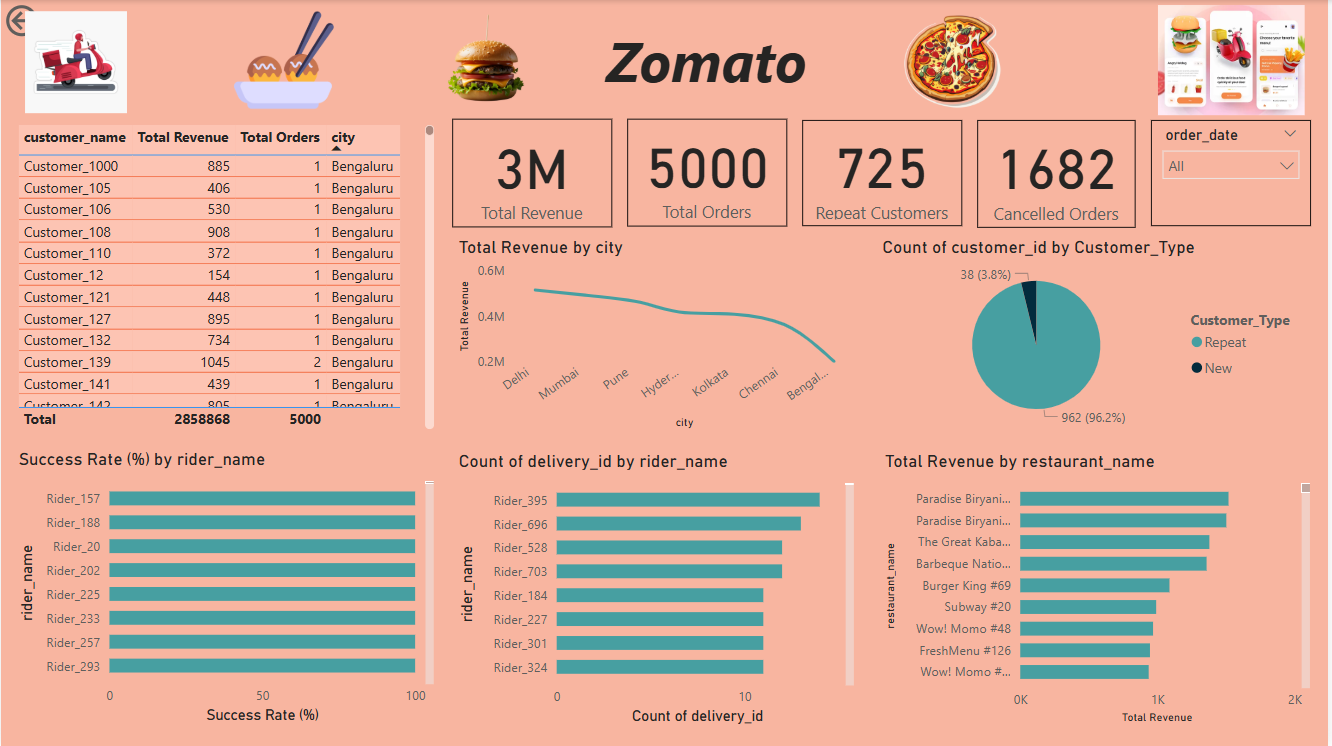

The page's visual inventory and layout, read from the dashboard file:
{"tool":"powerbi","page":{"name":"Page 1","canvas":[1280,720],"ordinal":0},"visuals":[{"type":"card","fields":{"Values":["Measures (2).Total Revenue"]},"box":[435.4,114.7,154.2,105.1],"z":0},{"type":"card","fields":{"Values":["Measures (2).Total Orders"]},"box":[604.7,114.7,154.2,103.7],"z":1000},{"type":"card","fields":{"Values":["Measures (2).Repeat Customers"]},"box":[773.9,116,154.2,102.4],"z":2000},{"type":"card","fields":{"Values":["Measures (2).Cancelled Orders"]},"box":[941.8,116,152.9,103.7],"z":3000},{"type":"slicer","fields":{"Values":["orders.order_date"]},"box":[1109.7,116,154.2,102.4],"z":4000},{"type":"pieChart","fields":{"Y":["customers.customer_id"],"Category":["customers.Customer_Type"]},"box":[846.2,227.9,420.4,191.1],"z":5000},{"type":"tableEx","fields":{"Values":["customers.customer_name","Measures (2).Total Revenue","Measures (2).Total Orders","restaurants_data.city"]},"box":[10.9,116,412.2,303],"z":6000},{"type":"barChart","fields":{"Y":["deliveries.delivery_id"],"Category":["riders.rider_name"]},"box":[436.8,434,391.7,270.3],"z":7000},{"type":"actionButton","box":[0,0,100,40],"z":8000},{"type":"barChart","fields":{"Category":["riders.rider_name"],"Y":["deliveries.Success Rate (%)"]},"box":[12.3,432.7,410.8,270.3],"z":9000},{"type":"barChart","fields":{"Y":["Measures (2).Total Revenue"],"Category":["restaurants_data.restaurant_name"]},"box":[847.6,434,420.4,268.9],"z":10000},{"type":"textbox","box":[533.2,16.9,295.6,80.8],"z":11000},{"type":"image","box":[0,6,144.8,108.6],"z":12000},{"type":"image","box":[828.8,0,176.1,113.4],"z":13000},{"type":"image","box":[376.4,0,185.8,115.8],"z":14000},{"type":"image","box":[1094.4,0,185.6,116],"z":15000},{"type":"image","box":[184.6,0,177.3,115.8],"z":16000},{"type":"lineChart","fields":{"Category":["restaurants_data.city"],"Y":["Measures (2).Total Revenue"]},"box":[436.8,227.9,391.7,191.1],"z":17000}]}

Visuals, with their boxes in screenshot pixels (x1, y1, x2, y2), scaled from the page's 1280x720 canvas onto the 1332x746 screenshot:
card - Measures (2).Total Revenue: 453,119,614,228
card - Measures (2).Total Orders: 629,119,790,226
card - Measures (2).Repeat Customers: 805,120,966,226
card - Measures (2).Cancelled Orders: 980,120,1139,228
slicer - orders.order_date: 1155,120,1315,226
pieChart - customers.customer_id x customers.Customer_Type: 881,236,1318,434
tableEx - customers.customer_name x Measures (2).Total Revenue: 11,120,440,434
barChart - deliveries.delivery_id x riders.rider_name: 455,450,862,730
actionButton: 0,0,104,41
barChart - riders.rider_name x deliveries.Success Rate (%): 13,448,440,728
barChart - Measures (2).Total Revenue x restaurants_data.restaurant_name: 882,450,1320,728
textbox: 555,18,862,101
image: 0,6,151,119
image: 862,0,1046,117
image: 392,0,585,120
image: 1139,0,1331,120
image: 192,0,377,120
lineChart - restaurants_data.city x Measures (2).Total Revenue: 455,236,862,434
